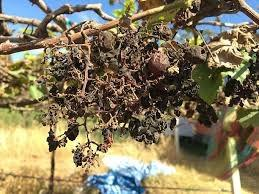Grape Rotten: (37, 19, 219, 168)
